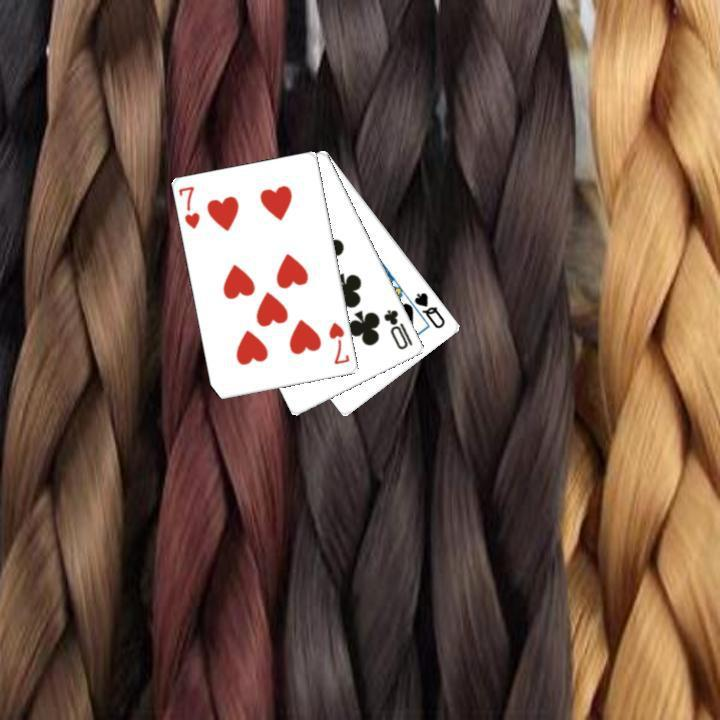10: (380, 305, 415, 352)
7: (325, 318, 352, 367), (175, 182, 202, 231)
Q: (410, 288, 447, 331)
